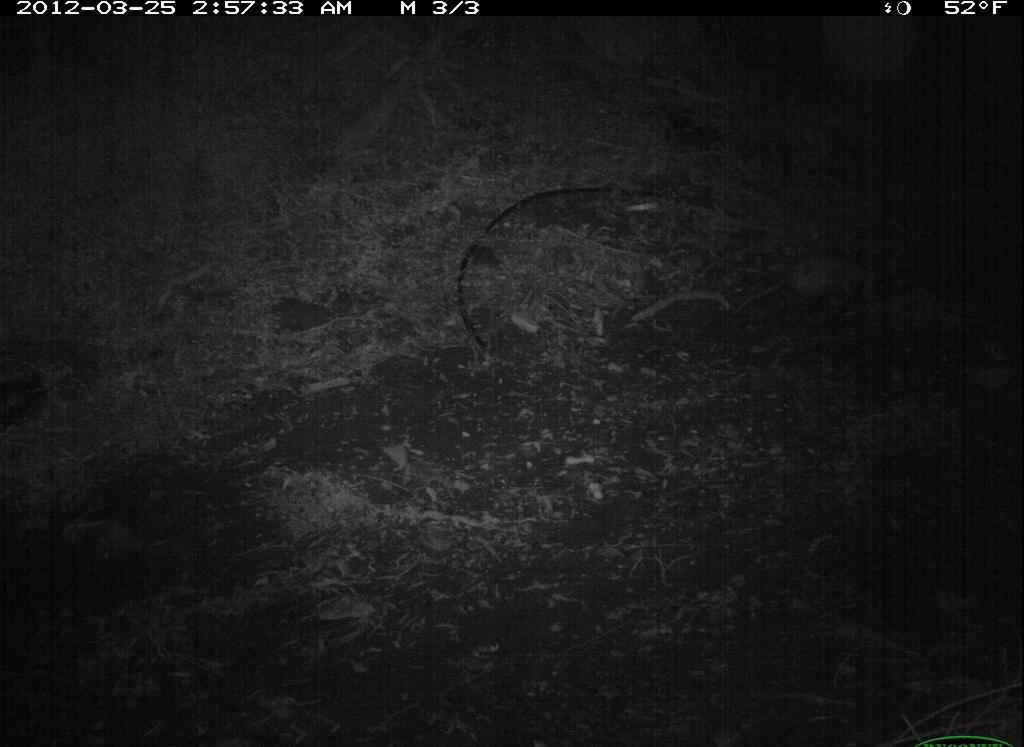opossum: (724, 245, 888, 332)
